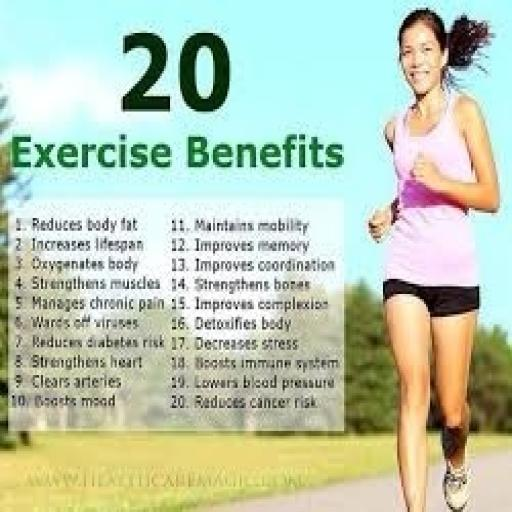running: (364, 5, 504, 510)
